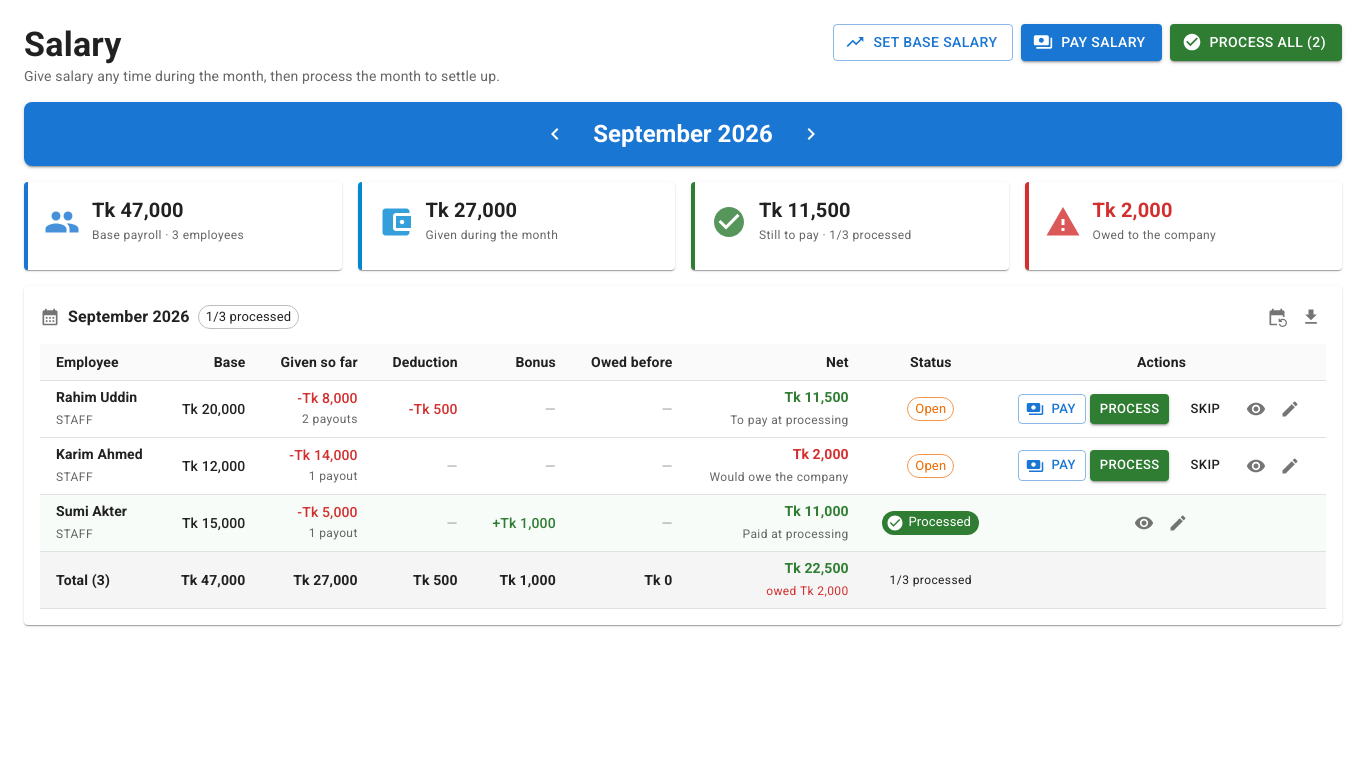
it: SalaryPage month report › opens the pay dialog for a row with that employee preselected and the remaining amount shown
Click the button "Pay" in the row of "Karim Ahmed": (1052, 466) [1018, 450, 1086, 481]
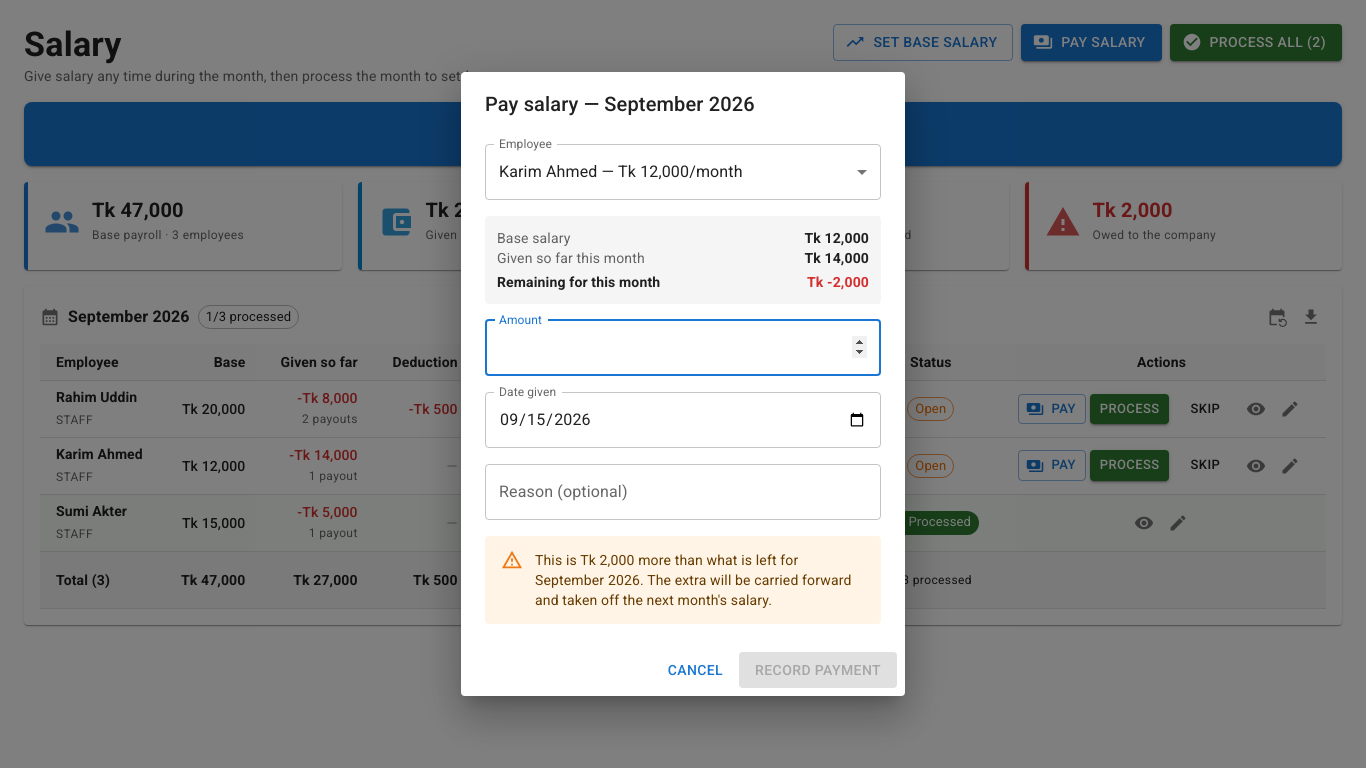
Now the heading "Pay salary — September 2026" is shown, box [485, 92, 755, 116]
Now the text "Remaining for this month" is shown, box [497, 272, 660, 292]
Now the text "Tk -2,000" is shown, box [807, 272, 869, 292]
